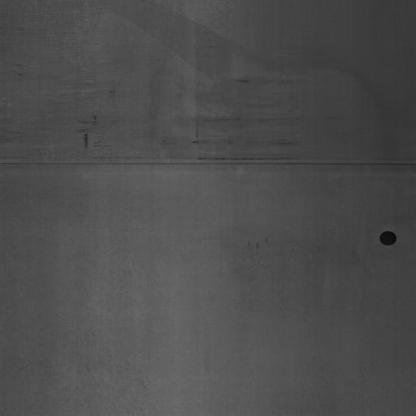punching_hole: (378, 225, 399, 251)
welding_line: (2, 146, 413, 180)
